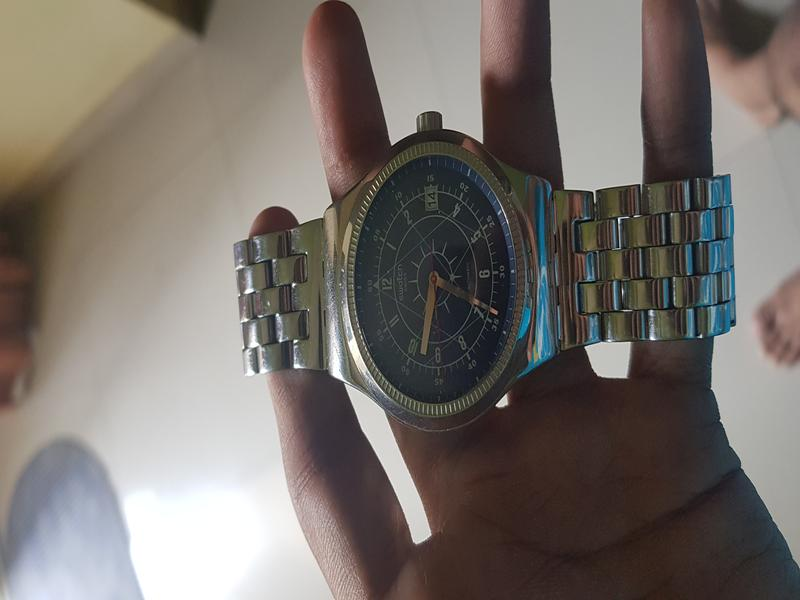watch: (194, 96, 785, 409)
